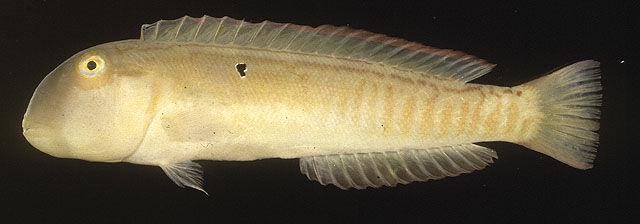fish: (21, 15, 603, 195)
